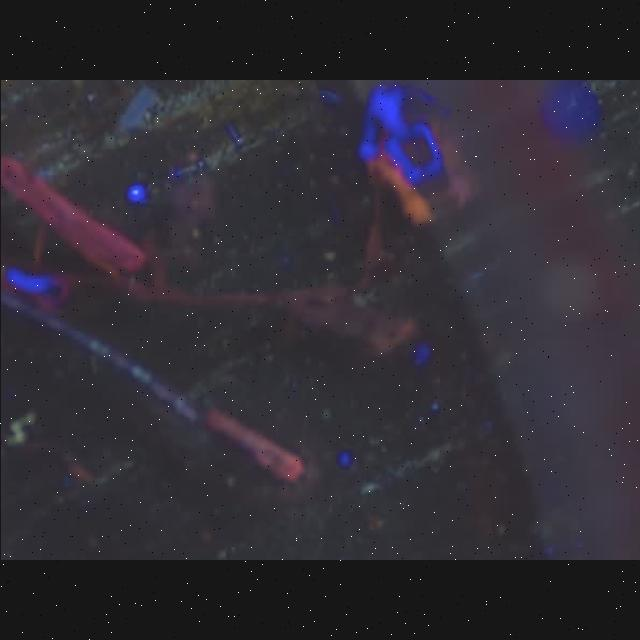Fibre: (5, 412, 38, 446)
